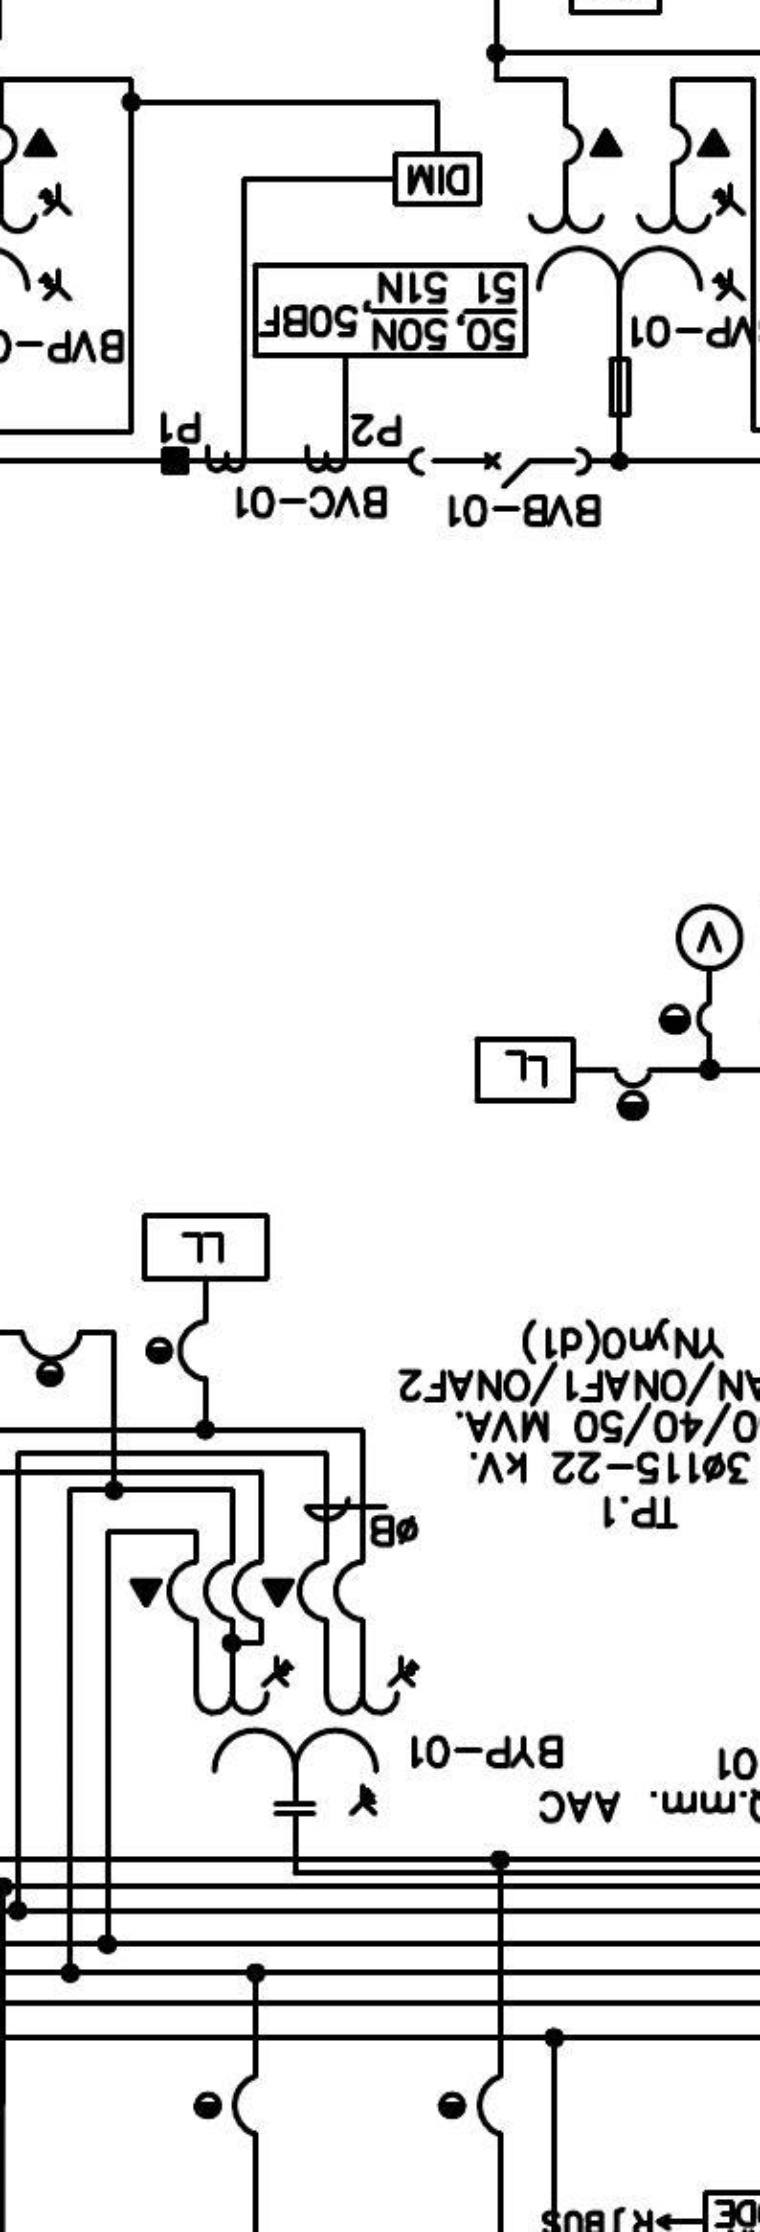115_cvt_3p: (192, 1653, 422, 1817)
22_breaker: (407, 445, 593, 490)
22_vt_3p: (526, 121, 748, 419)
DIM: (392, 151, 483, 208)
LL: (142, 1212, 270, 1283), (474, 1035, 577, 1104)
v_m: (674, 901, 745, 973)
